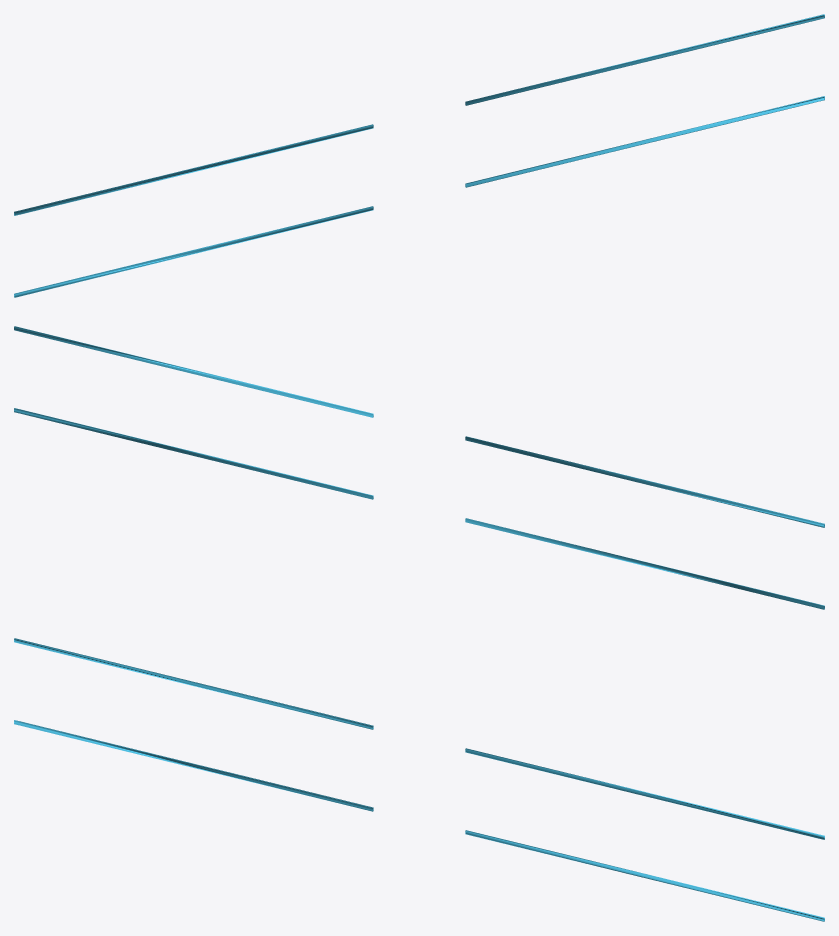
File: BorderWithAbyss.fbx
3 views of the same model, one above another, from view 1: azimuth 30°, elevation 25°; view 2: azimuth 150°, elevation 25°; view 3: azimuth 330°, elevation 25° (orthographic).
Visible parts, largest first — view 1: BorderWithAbyss; view 2: BorderWithAbyss; view 3: BorderWithAbyss.
Boxes of the visible parts, bbox=[...] form: BorderWithAbyss: bbox=[14, 14, 824, 297]; BorderWithAbyss: bbox=[14, 326, 824, 609]; BorderWithAbyss: bbox=[14, 638, 824, 921].
Bounding box in the file's own units: 59.56 × 6 × 0.1.
